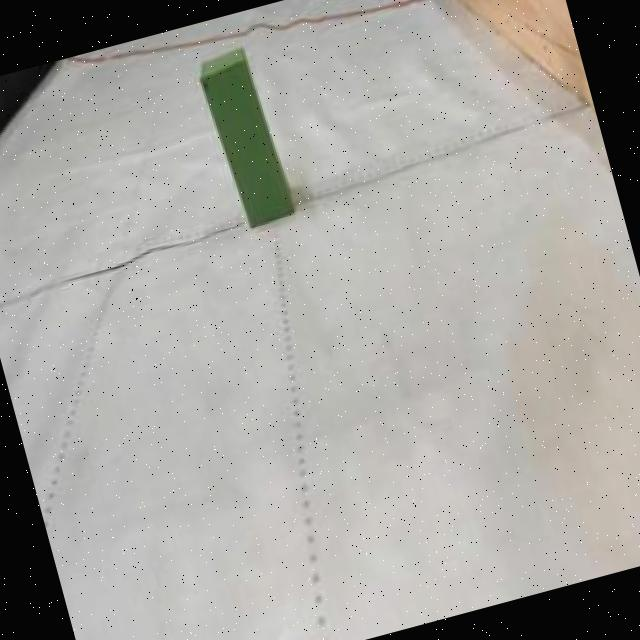greenbox: (197, 51, 294, 230)
